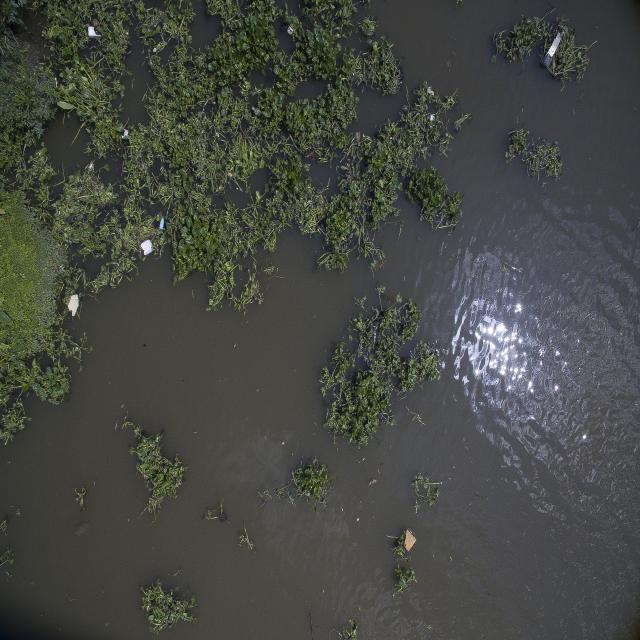Plastic: (540, 32, 562, 68), (69, 289, 81, 321), (404, 528, 417, 550), (88, 24, 105, 38), (142, 242, 155, 254), (160, 216, 164, 230)
